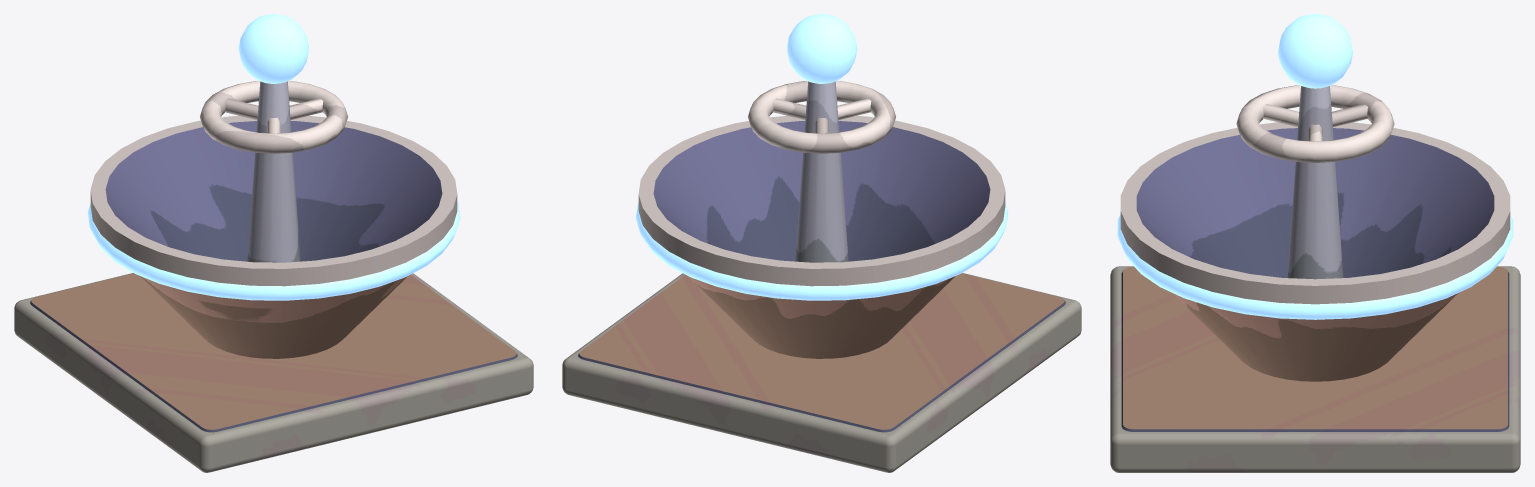
File: R4X_ScannerPulse.glb
3 renders of one model, left to right at view 1: azimuth 30°, elevation 25°; view 2: azimuth 150°, elevation 25°; view 3: azimuth 270°, elevation 25°, orthographic. The views are drawn at different scales.
Parts seen in each view (by area): view 1: R4X_ScannerPulse_Body; view 2: R4X_ScannerPulse_Body; view 3: R4X_ScannerPulse_Body.
Boxes of the visible parts, box(x1,y1,x2,y2) form: R4X_ScannerPulse_Body: box(14, 14, 533, 472); R4X_ScannerPulse_Body: box(562, 14, 1081, 472); R4X_ScannerPulse_Body: box(1110, 14, 1520, 472).
Size of the model in its own units: 0.514 by 0.5172 by 0.514.
Materials: 5 (4 with a texture image).
